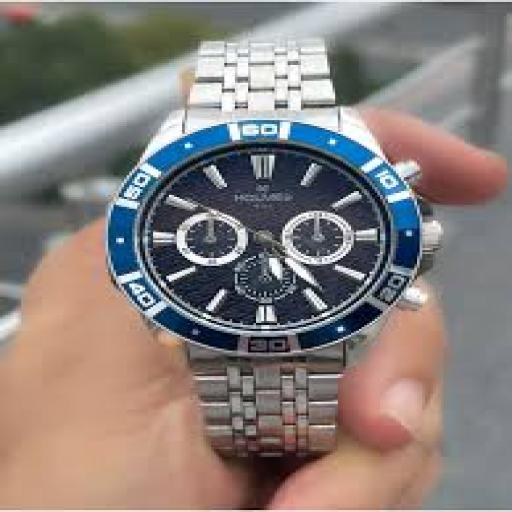KolSaati: (86, 17, 458, 473)
